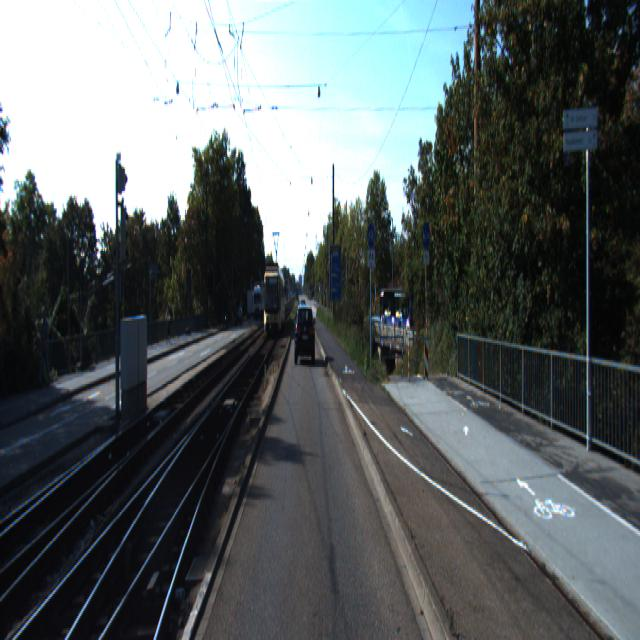Car: (378, 285, 424, 341), (264, 256, 286, 335), (296, 305, 315, 364)
